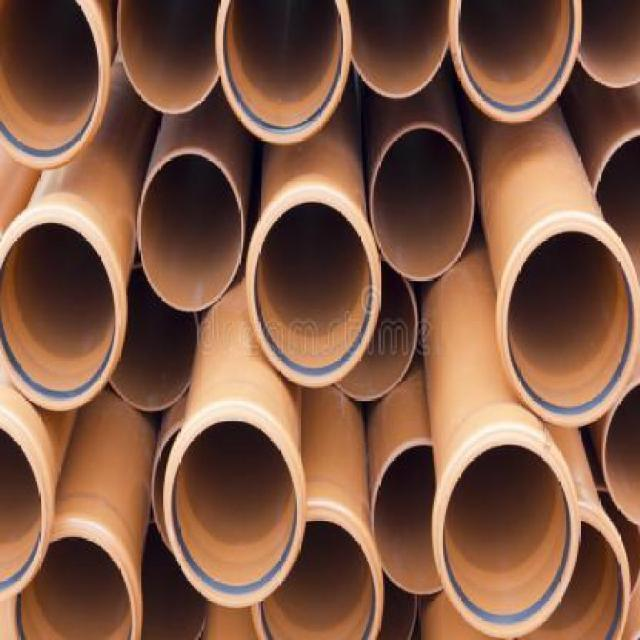pipe: (440, 437, 577, 640), (505, 226, 639, 426), (168, 414, 305, 608), (2, 212, 128, 411), (252, 195, 377, 388), (217, 2, 351, 145), (2, 2, 110, 170), (137, 151, 245, 311), (252, 511, 383, 639), (371, 125, 474, 281), (449, 2, 582, 122), (8, 530, 139, 639), (110, 265, 199, 413), (332, 254, 417, 402), (117, 1, 219, 114), (372, 443, 443, 594), (345, 2, 450, 100), (2, 422, 48, 602), (594, 126, 640, 279), (571, 2, 637, 90)
